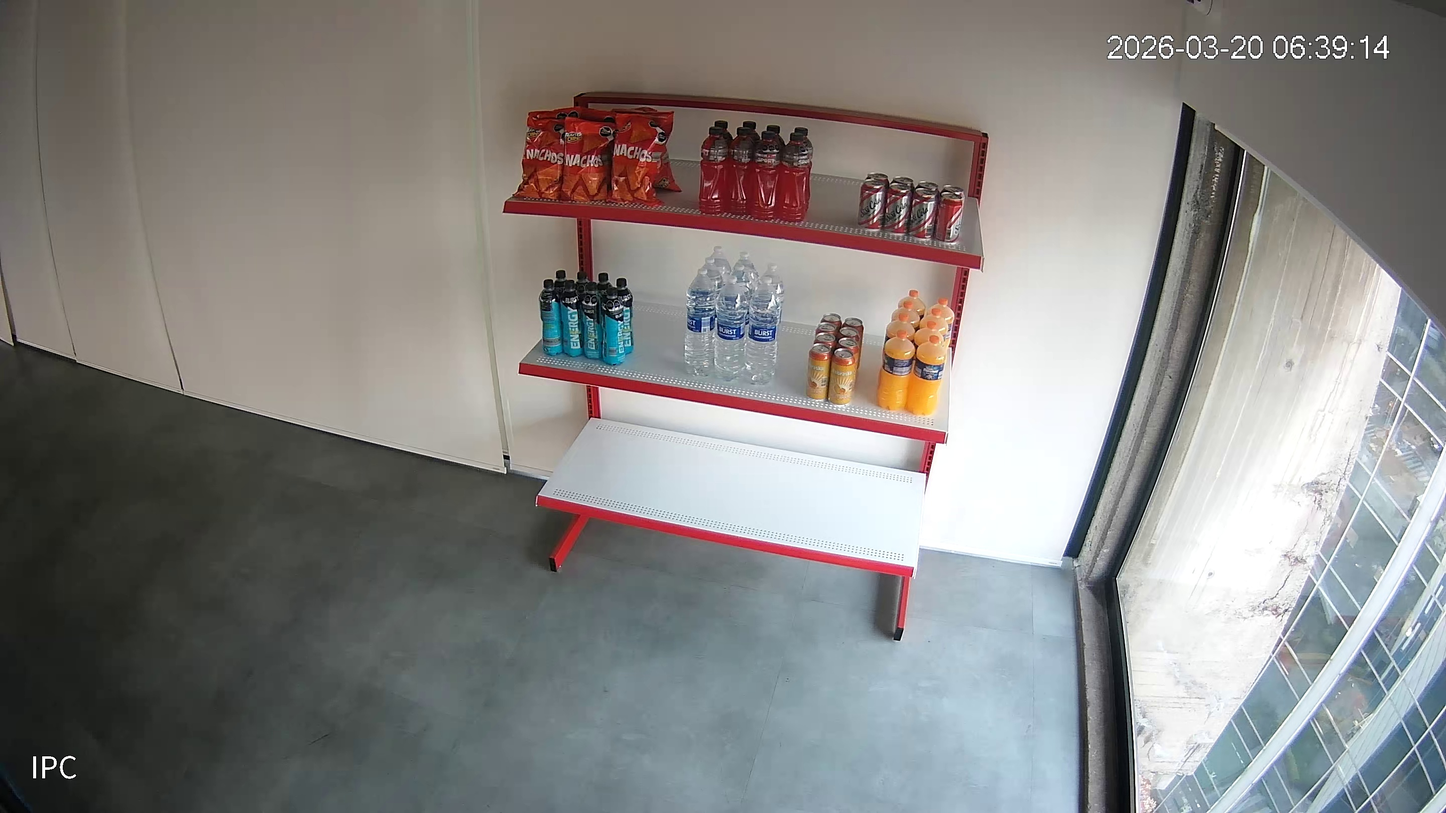agua_burst: (684, 268, 715, 377), (758, 265, 783, 326)
burst_energetica_roja: (778, 133, 809, 222), (698, 126, 728, 215)
burst_energy: (537, 279, 563, 355), (617, 279, 634, 356)
nachos_naturasol: (609, 111, 673, 206), (516, 117, 564, 199)
nebraska_mango: (806, 344, 833, 399), (842, 317, 864, 368)
sisi_cola: (909, 189, 935, 239), (891, 176, 915, 192)
sun_paradise_naranja: (877, 331, 914, 411), (927, 299, 955, 351)
